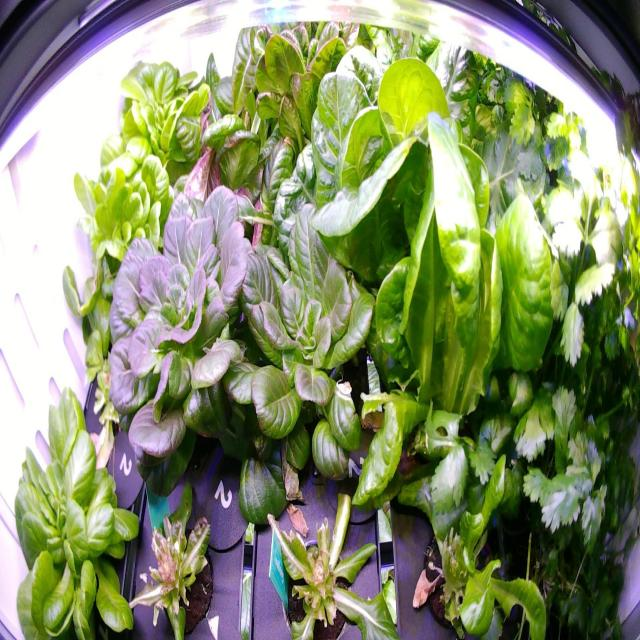Ready: (89, 149, 285, 485), (205, 10, 383, 232), (95, 46, 216, 201), (63, 132, 179, 288)
young: (227, 172, 402, 534), (6, 382, 142, 640)
